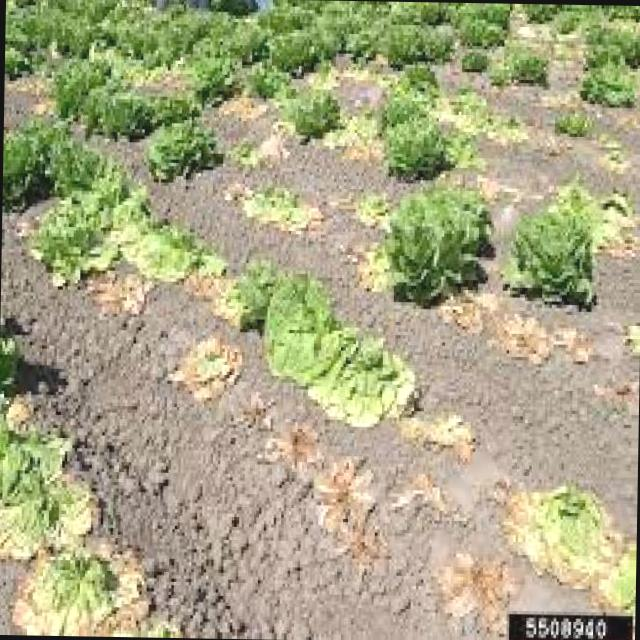Septoria_Blight: (0, 453, 150, 635), (506, 464, 618, 597), (110, 200, 222, 290)
